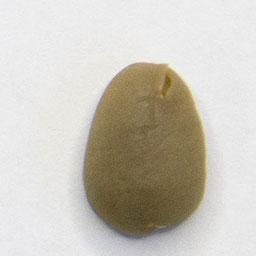premium: (79, 57, 209, 242)
